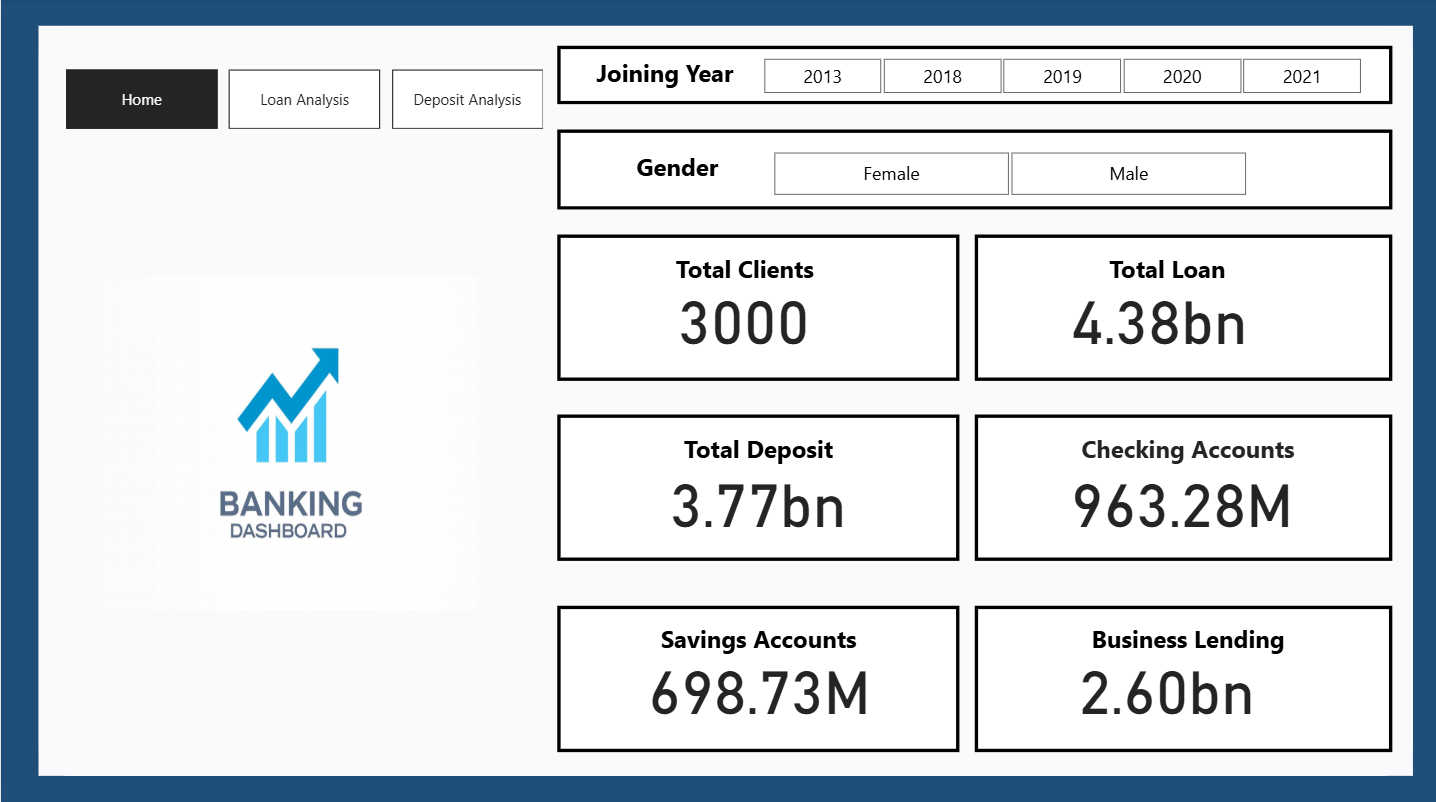

Layout of this report page (visuals, bound fields, positions):
{"tool":"powerbi","page":{"name":"Home","canvas":[1280,720],"ordinal":0},"visuals":[{"type":"shape","box":[32.9,26.1,1224,668.3],"z":0},{"type":"shape","box":[495.4,43.9,743.7,52.1],"z":1000},{"type":"shape","box":[495.4,118,743.7,71.4],"z":2000},{"type":"shape","title":"Total Clients","box":[495.4,211.3,358.1,130.4],"z":3000},{"type":"shape","box":[867.2,211.3,371.9,130.4],"z":4000},{"type":"shape","box":[495.4,542,358.1,130.4],"z":5000},{"type":"shape","box":[495.4,371.9,358.1,130.4],"z":6000},{"type":"shape","box":[867.2,542,371.9,130.4],"z":7000},{"type":"shape","box":[867.2,371.9,371.9,130.4],"z":8000},{"type":"textbox","box":[568.1,222.3,189.4,42.5],"z":9000},{"type":"card","fields":{"Values":["banking_details.Name"]},"box":[585.9,264.8,152.3,57.6],"z":10000},{"type":"textbox","box":[944.1,222.3,189.4,42.5],"z":11000},{"type":"textbox","box":[929,382.8,255.2,42.5],"z":12000},{"type":"textbox","box":[580.4,551.6,189.4,42.5],"z":13000},{"type":"textbox","box":[580.4,382.8,189.4,42.5],"z":14000},{"type":"textbox","box":[929,551.6,255.2,42.5],"z":15000},{"type":"textbox","box":[507.7,131.7,189.4,42.5],"z":16000},{"type":"image","box":[86.4,244.3,343.1,307.4],"z":17000},{"type":"slicer","fields":{"Values":["banking_details.GenderId"]},"box":[662.8,131.7,470.7,52.1],"z":18000},{"type":"card","fields":{"Values":["banking_details.Total Loan"]},"box":[929,264.8,204.5,57.6],"z":19000},{"type":"card","fields":{"Values":["banking_details.Total Deposit"]},"box":[572.2,428.1,204.5,57.6],"z":20000},{"type":"card","fields":{"Values":["banking_details.Checking Accounts"]},"box":[944.1,428.1,215.4,57.6],"z":21000},{"type":"card","fields":{"Values":["banking_details.Business Lending"]},"box":[930.4,594.2,215.4,57.6],"z":22000},{"type":"card","fields":{"Values":["banking_details.Saving Accounts"]},"box":[568.1,594.2,215.4,57.6],"z":23000},{"type":"slicer","fields":{"Values":["banking_details.Year of Joining"]},"box":[653.2,48,581.8,42.5],"z":24000},{"type":"textbox","box":[507.7,48,167.4,42.5],"z":25000},{"type":"pageNavigator","box":[57.6,64.5,426.8,53.5],"z":26000}]}

Visuals, with their boxes in screenshot pixels (x1, y1, x2, y2), scaled from the page's 1280x720 canvas onto the 1436x802 screenshot:
shape: box(37, 29, 1410, 773)
shape: box(556, 49, 1390, 107)
shape: box(556, 131, 1390, 211)
"Total Clients" shape: box(556, 235, 958, 381)
shape: box(973, 235, 1390, 381)
shape: box(556, 604, 958, 749)
shape: box(556, 414, 958, 560)
shape: box(973, 604, 1390, 749)
shape: box(973, 414, 1390, 560)
textbox: box(637, 248, 850, 295)
card - banking_details.Name: box(657, 295, 828, 359)
textbox: box(1059, 248, 1272, 295)
textbox: box(1042, 426, 1329, 474)
textbox: box(651, 614, 864, 662)
textbox: box(651, 426, 864, 474)
textbox: box(1042, 614, 1329, 662)
textbox: box(570, 147, 782, 194)
image: box(97, 272, 482, 615)
slicer - banking_details.GenderId: box(744, 147, 1272, 205)
card - banking_details.Total Loan: box(1042, 295, 1272, 359)
card - banking_details.Total Deposit: box(642, 477, 871, 541)
card - banking_details.Checking Accounts: box(1059, 477, 1301, 541)
card - banking_details.Business Lending: box(1044, 662, 1285, 726)
card - banking_details.Saving Accounts: box(637, 662, 879, 726)
slicer - banking_details.Year of Joining: box(733, 53, 1386, 101)
textbox: box(570, 53, 757, 101)
pageNavigator: box(65, 72, 543, 131)
